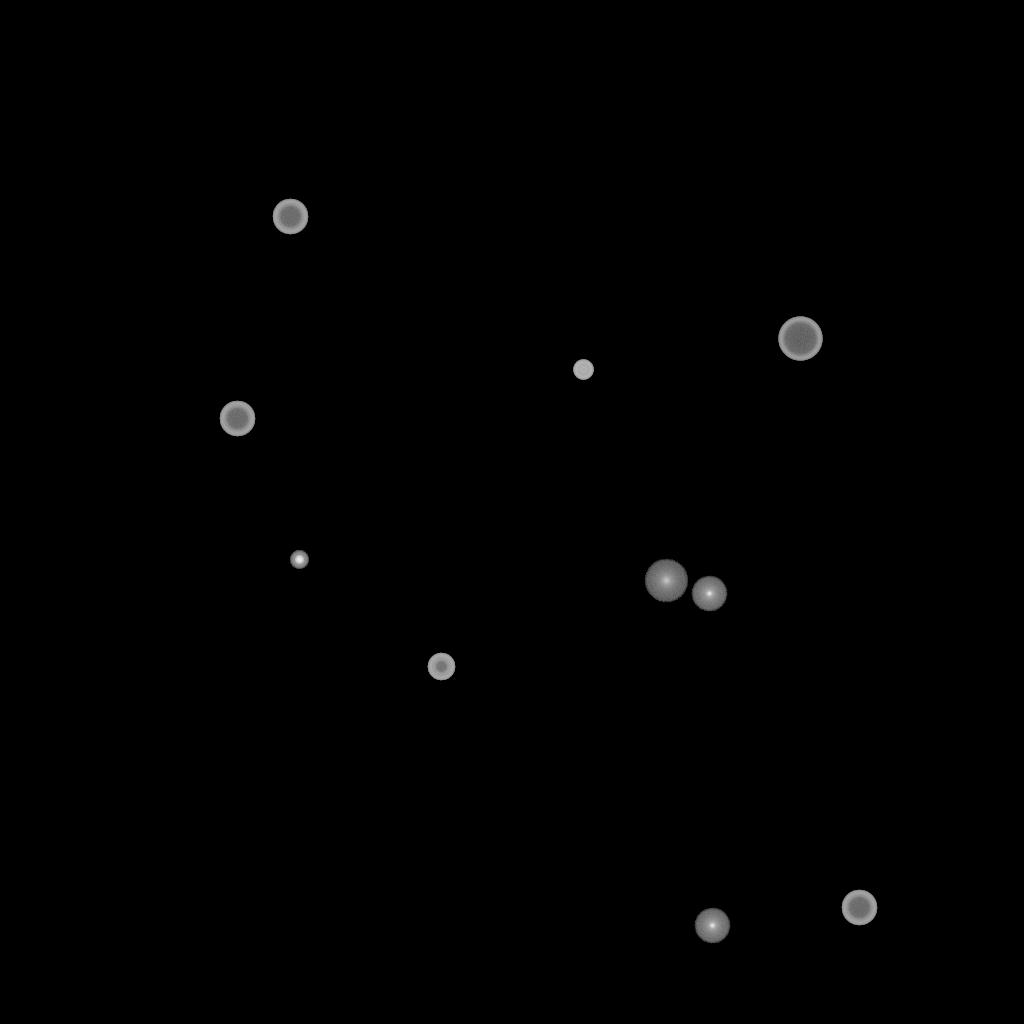depth:-20: (290, 551, 308, 569)
depth:-40: (573, 360, 593, 380)
depth:-50: (427, 653, 455, 681)
depth:-60: (272, 199, 308, 235), (841, 890, 877, 926), (219, 401, 255, 437)
depth:-70: (778, 317, 822, 361)
depth:0: (694, 908, 730, 944), (691, 576, 727, 612)
depth:10: (644, 559, 688, 603)
